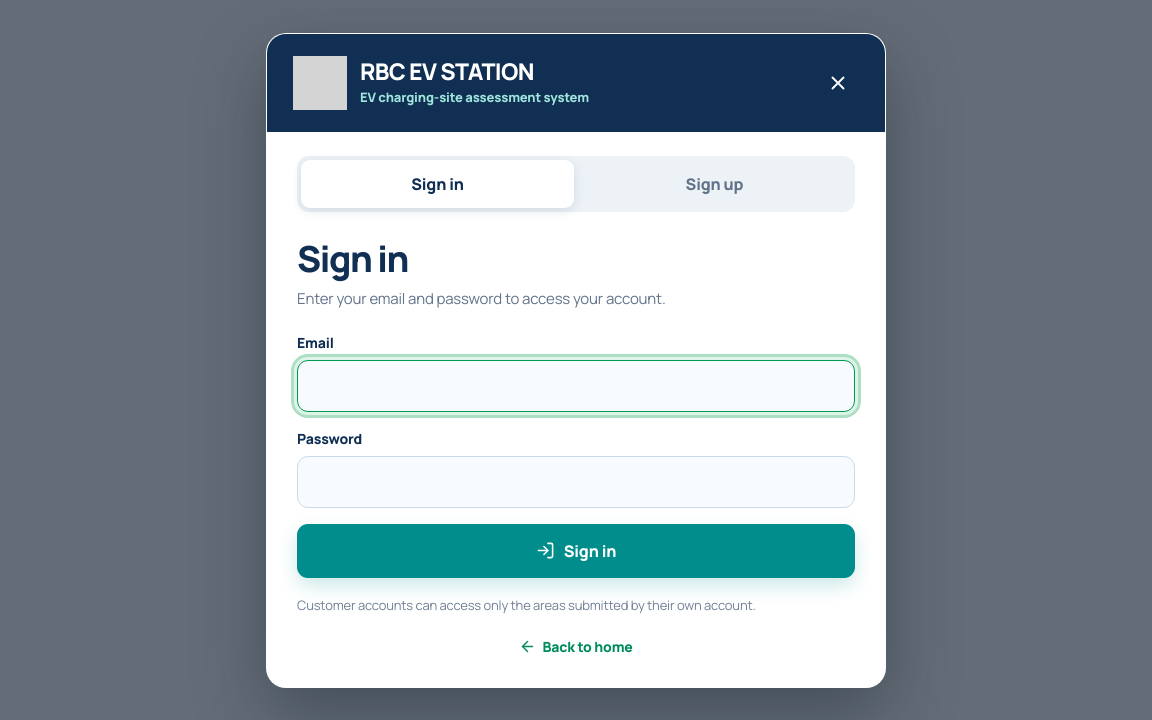
Test: LoginPage › shows an error instead of authenticating when login fails
Type "sales@example.com" into the field labelled "Email". click: (576, 385)
box: [297,359,855,411]
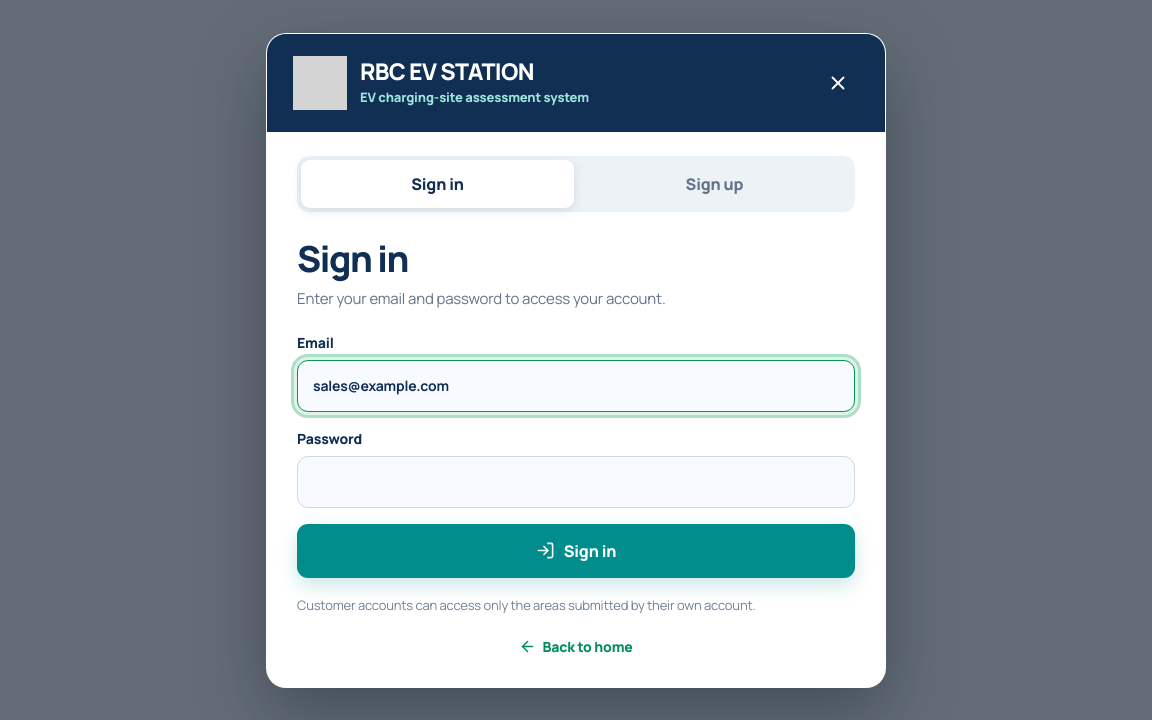
Type "password123" into the password field labelled "Password". click: (576, 481)
box: [297,455,855,507]
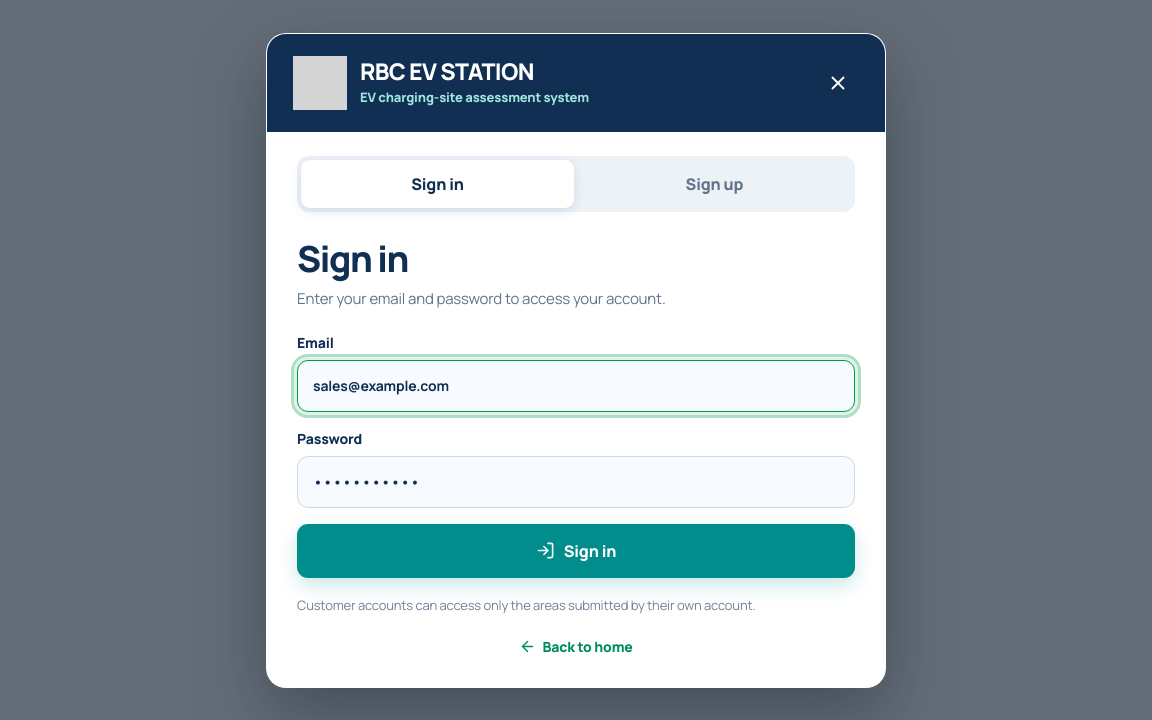
Click the button "Sign in". click: (576, 550)
box: [297,523,855,577]
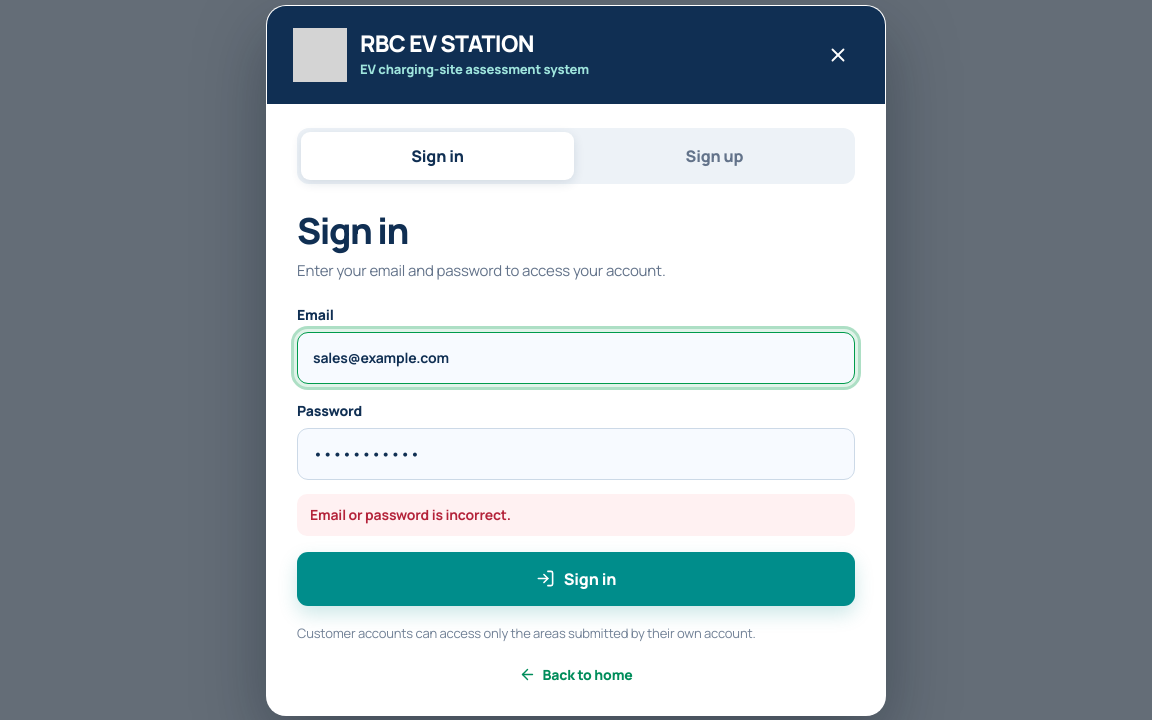
Expected: the message reads "Email or password is incorrect.", [310,504,511,523]
